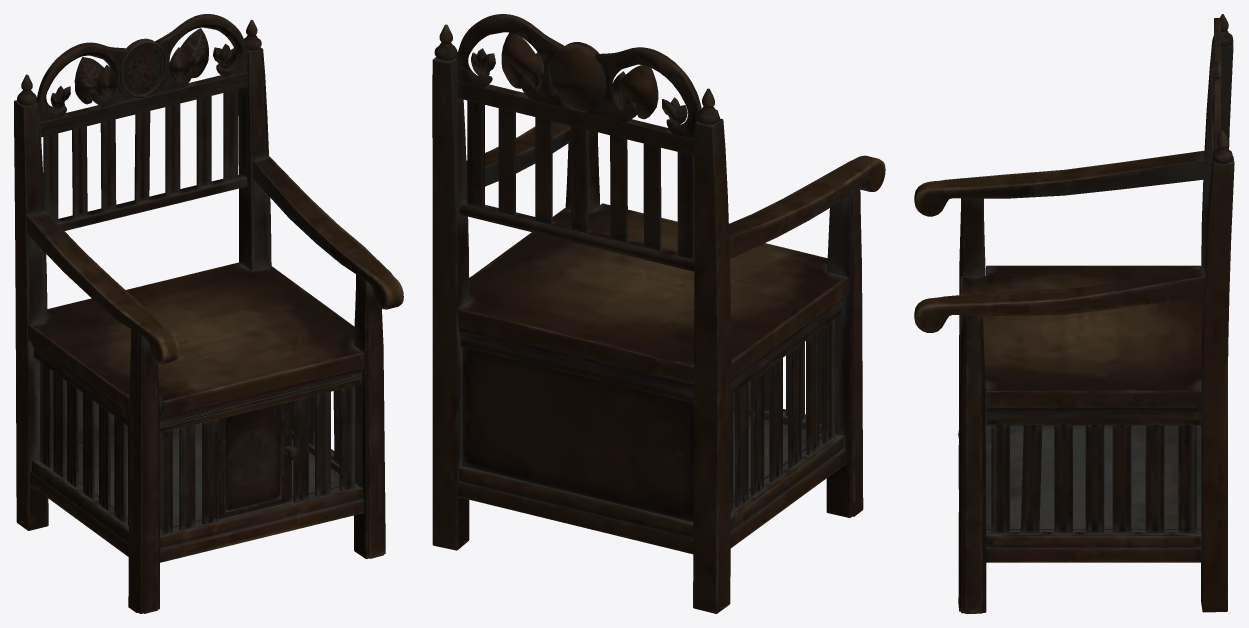
File: gallinera_chair.glb
3 renders of one model, left to right at view 1: azimuth 30°, elevation 25°; view 2: azimuth 150°, elevation 25°; view 3: azimuth 270°, elevation 25°, orthographic. The views are drawn at different scales.
Parts seen in each view (by area): view 1: gallinera_chair; view 2: gallinera_chair; view 3: gallinera_chair.
Part boxes in pixels (bbox=[...]): gallinera_chair: bbox=[14, 14, 403, 613]; gallinera_chair: bbox=[432, 14, 885, 613]; gallinera_chair: bbox=[914, 14, 1234, 613].
Bounding box in the file's own units: 0.5808 × 1.03 × 0.6039.
Materials: 1 (1 with a texture image).
